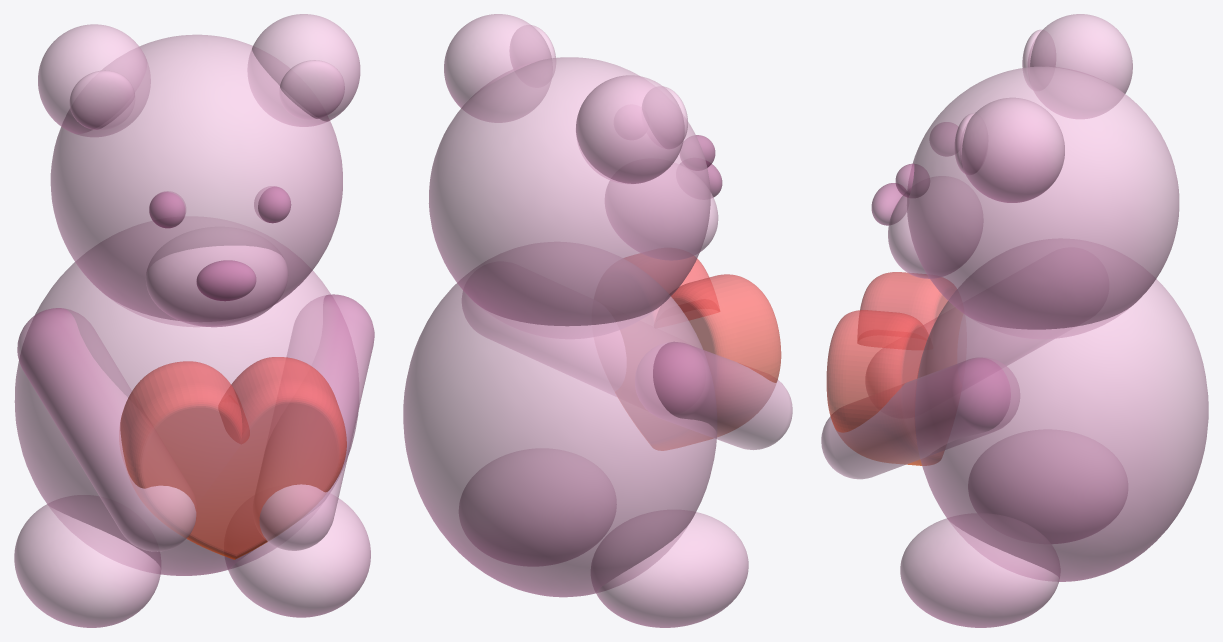
The model's file is hugged-teddy.glb.
3 views of the same model, side by side, from view 1: azimuth 30°, elevation 25°; view 2: azimuth 150°, elevation 25°; view 3: azimuth 270°, elevation 25° (orthographic). The views are drawn at different scales.
Visible parts, largest first — view 1: body, head, heart, arm_left, arm_right, leg_1, muzzle, leg_2, ear_1, ear_2, inner_ear_1, inner_ear_2 (+3 smaller); view 2: body, head, heart, leg_1, leg_2, arm_left, ear_1, ear_2, muzzle, arm_right, inner_ear_1, inner_ear_2 (+2 smaller); view 3: body, head, heart, arm_right, leg_2, leg_1, ear_2, ear_1, muzzle, arm_left, inner_ear_2, nose (+3 smaller).
Part boxes in pixels (left/top/right/bottom): body: left=14, top=217, right=358, bottom=575; head: left=50, top=34, right=342, bottom=326; heart: left=119, top=357, right=346, bottom=559; arm_left: left=17, top=308, right=196, bottom=551; arm_right: left=253, top=294, right=374, bottom=550; leg_1: left=14, top=495, right=161, bottom=627; muzzle: left=145, top=227, right=288, bottom=327; leg_2: left=225, top=494, right=370, bottom=617; ear_1: left=38, top=24, right=150, bottom=136; ear_2: left=248, top=14, right=360, bottom=126; inner_ear_1: left=69, top=70, right=134, bottom=129; inner_ear_2: left=280, top=60, right=344, bottom=119; body: left=403, top=242, right=716, bottom=597; head: left=428, top=57, right=710, bottom=338; heart: left=615, top=253, right=781, bottom=450; leg_1: left=591, top=510, right=748, bottom=627; leg_2: left=459, top=449, right=616, bottom=565; arm_left: left=635, top=341, right=792, bottom=450; ear_1: left=576, top=75, right=684, bottom=183; ear_2: left=444, top=14, right=552, bottom=122; muzzle: left=605, top=163, right=718, bottom=259; arm_right: left=462, top=291, right=626, bottom=396; inner_ear_1: left=642, top=86, right=687, bottom=148; inner_ear_2: left=510, top=25, right=555, bottom=76; body: left=915, top=239, right=1208, bottom=581; head: left=906, top=66, right=1179, bottom=338; heart: left=826, top=272, right=962, bottom=465; arm_right: left=821, top=357, right=1019, bottom=479; leg_2: left=900, top=513, right=1059, bottom=627; leg_1: left=968, top=430, right=1127, bottom=543; ear_2: left=960, top=97, right=1064, bottom=202; ear_1: left=1028, top=14, right=1132, bottom=118; muzzle: left=888, top=176, right=982, bottom=278; arm_left: left=866, top=314, right=1053, bottom=395; inner_ear_2: left=954, top=113, right=987, bottom=174; nose: left=871, top=183, right=906, bottom=225.
Bounding box in the file's own units: 0.5544 × 0.9486 × 0.6249.
